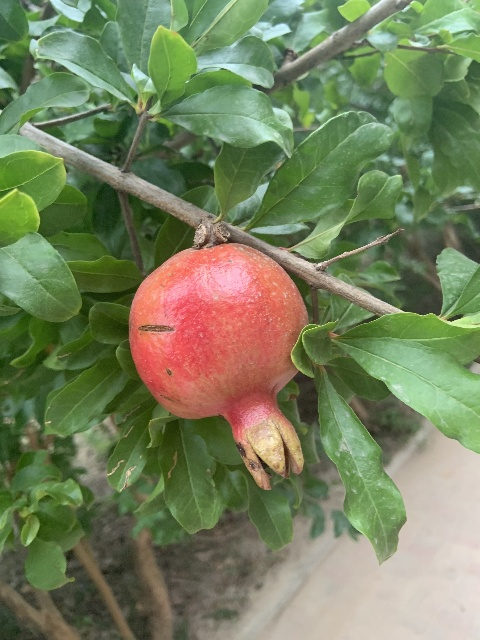ripe: (127, 242, 310, 490)
